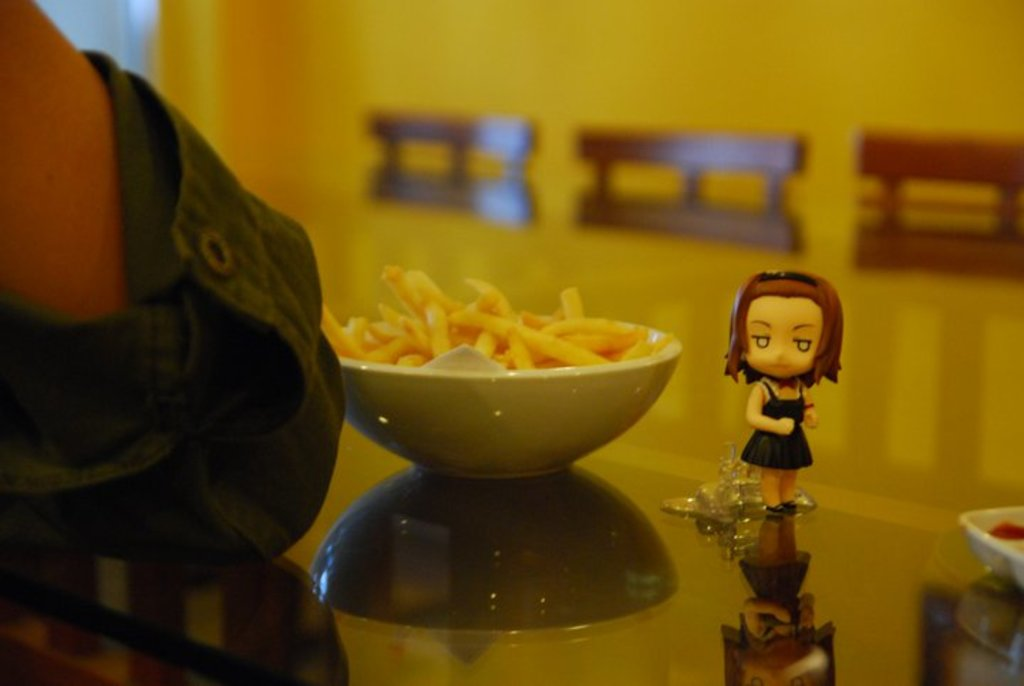French fries: (334, 268, 661, 382)
